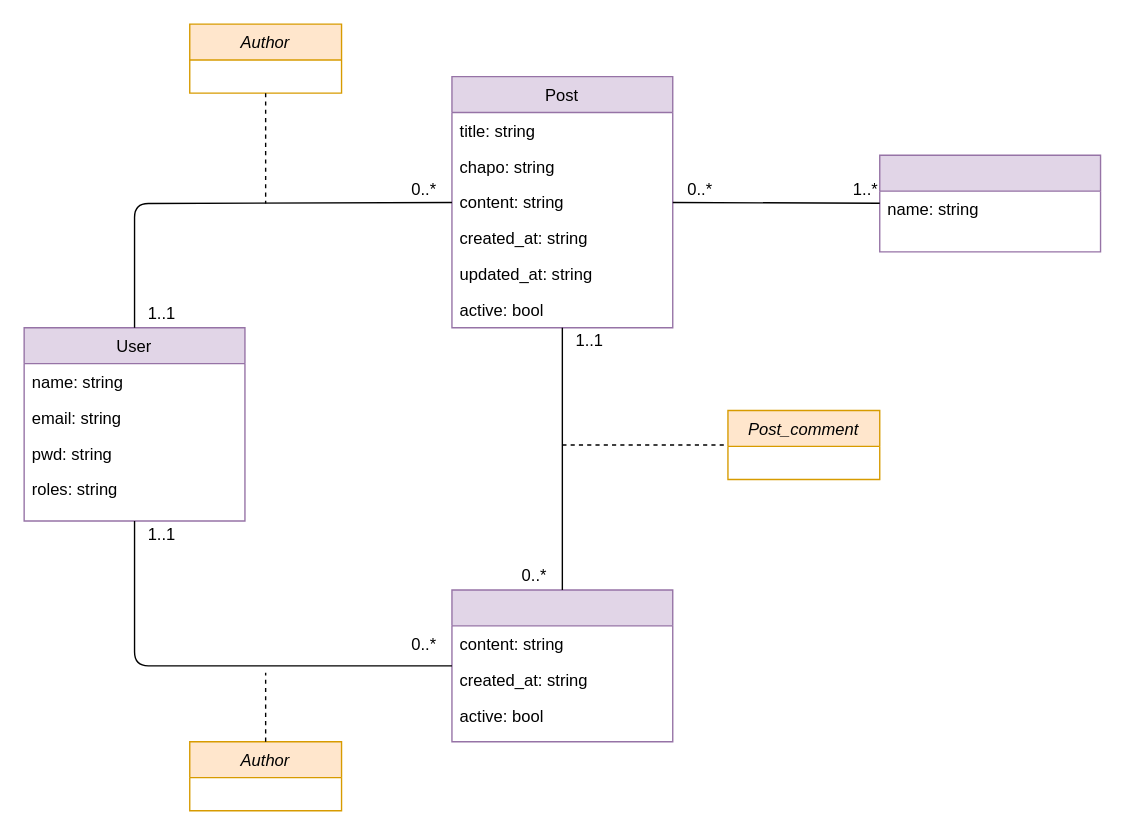
Image size: 1125x835. Some labels were removed from this diagram. The shapes that lost their labels are listed below. From the top down, each one's box as (x1, y1, x2, y2) in pixels, then its label:
(878, 154, 1101, 252): Category
(451, 589, 673, 742): Comment
